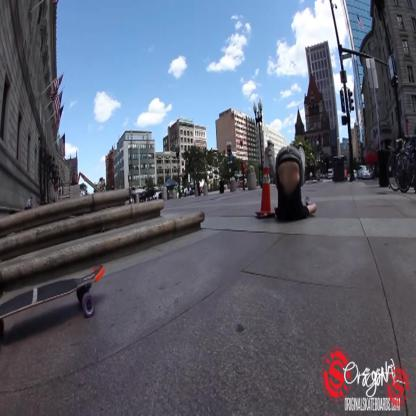Fall_Down: (266, 140, 318, 224)
